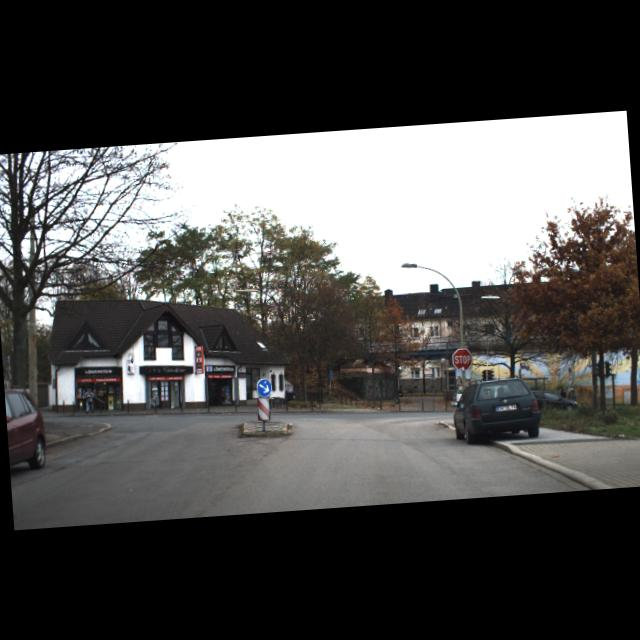mandatory: (255, 378, 272, 398)
other: (452, 348, 472, 370)
